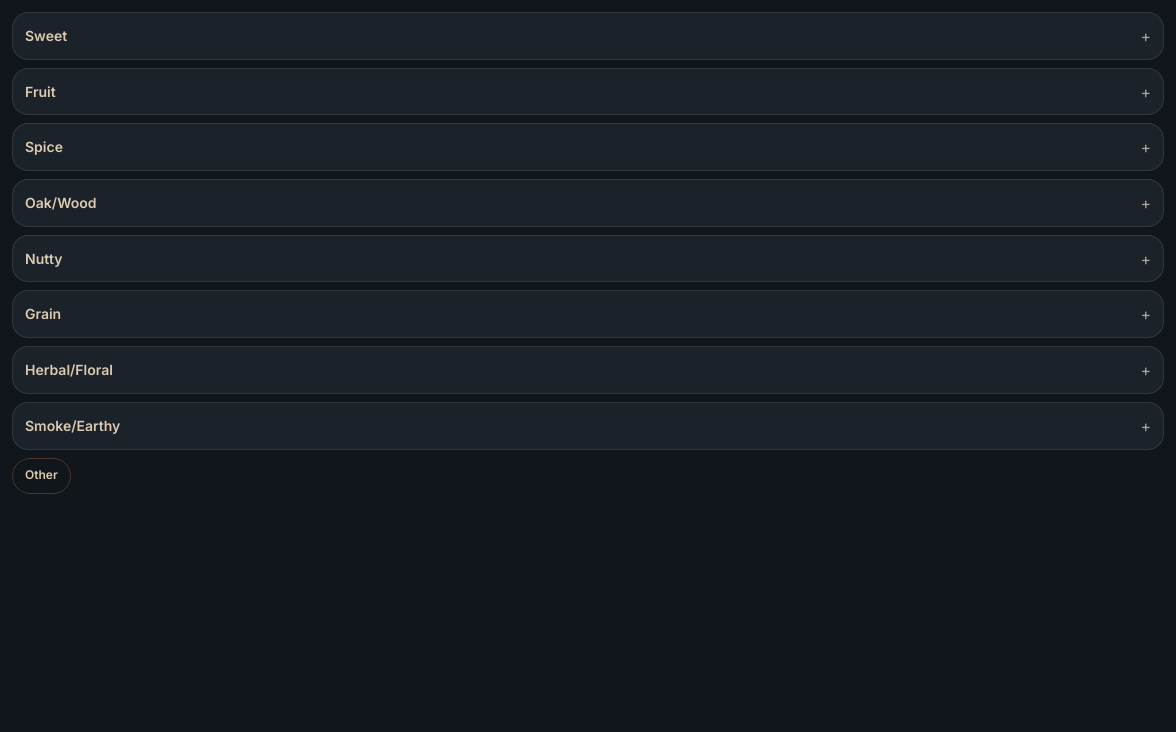
Scenario: FlavorFamilySelector › expands a family on click and reveals its chips
Click the button "Sweet +" at {"x": 46, "y": 36}, box 13,13 -> 1163,59
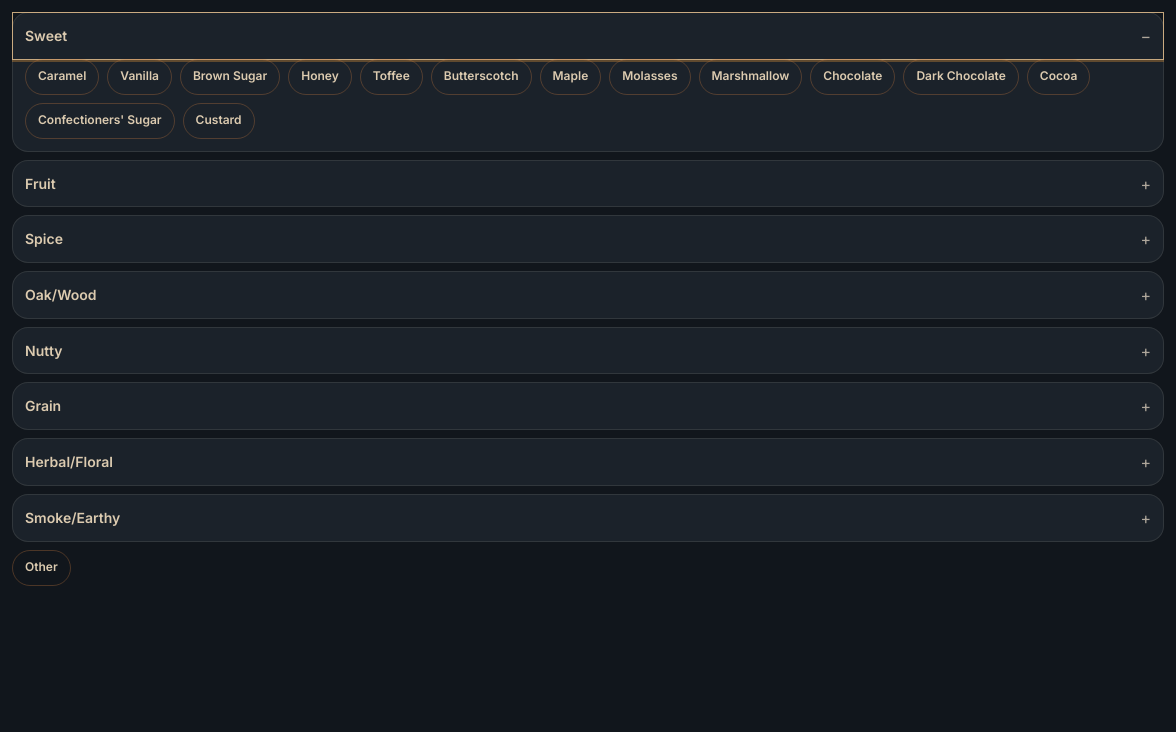
Now the button "Vanilla" is shown, box 107,59 -> 172,95
